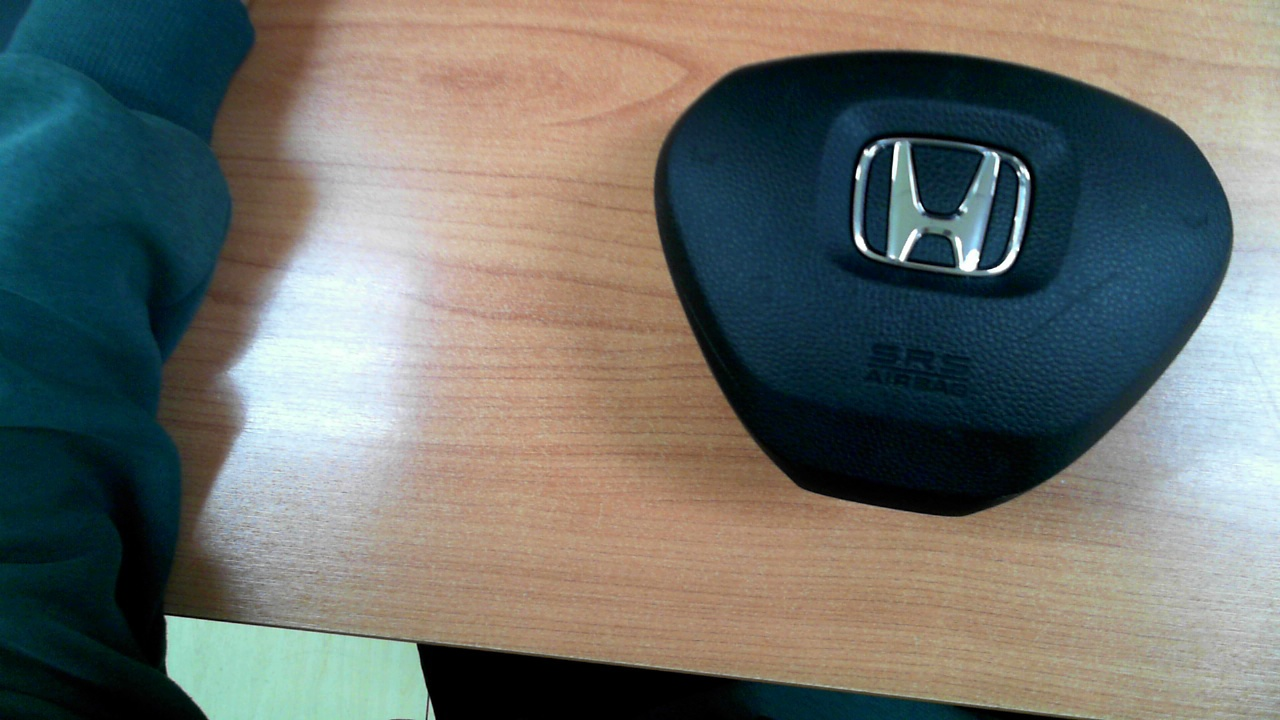Airbag: (653, 49, 1234, 517)
Honda: (852, 137, 1031, 276)
